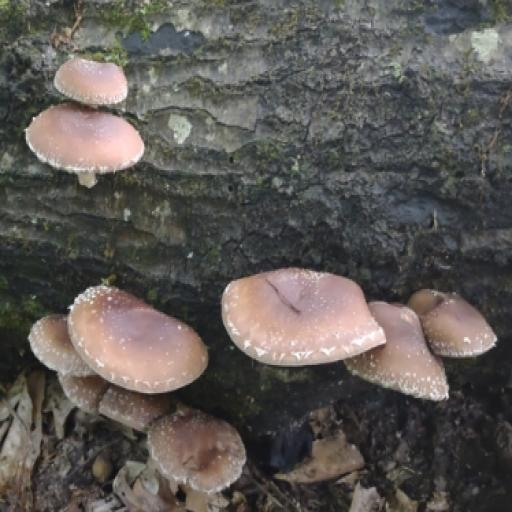Shiitake Mushroom: (17, 314, 254, 499), (220, 259, 497, 397), (59, 281, 211, 401), (31, 106, 141, 171), (59, 59, 129, 106)
